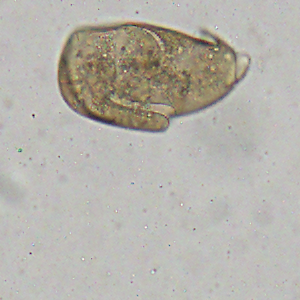Fasciola_hepatica_egg: (56, 17, 253, 134)
